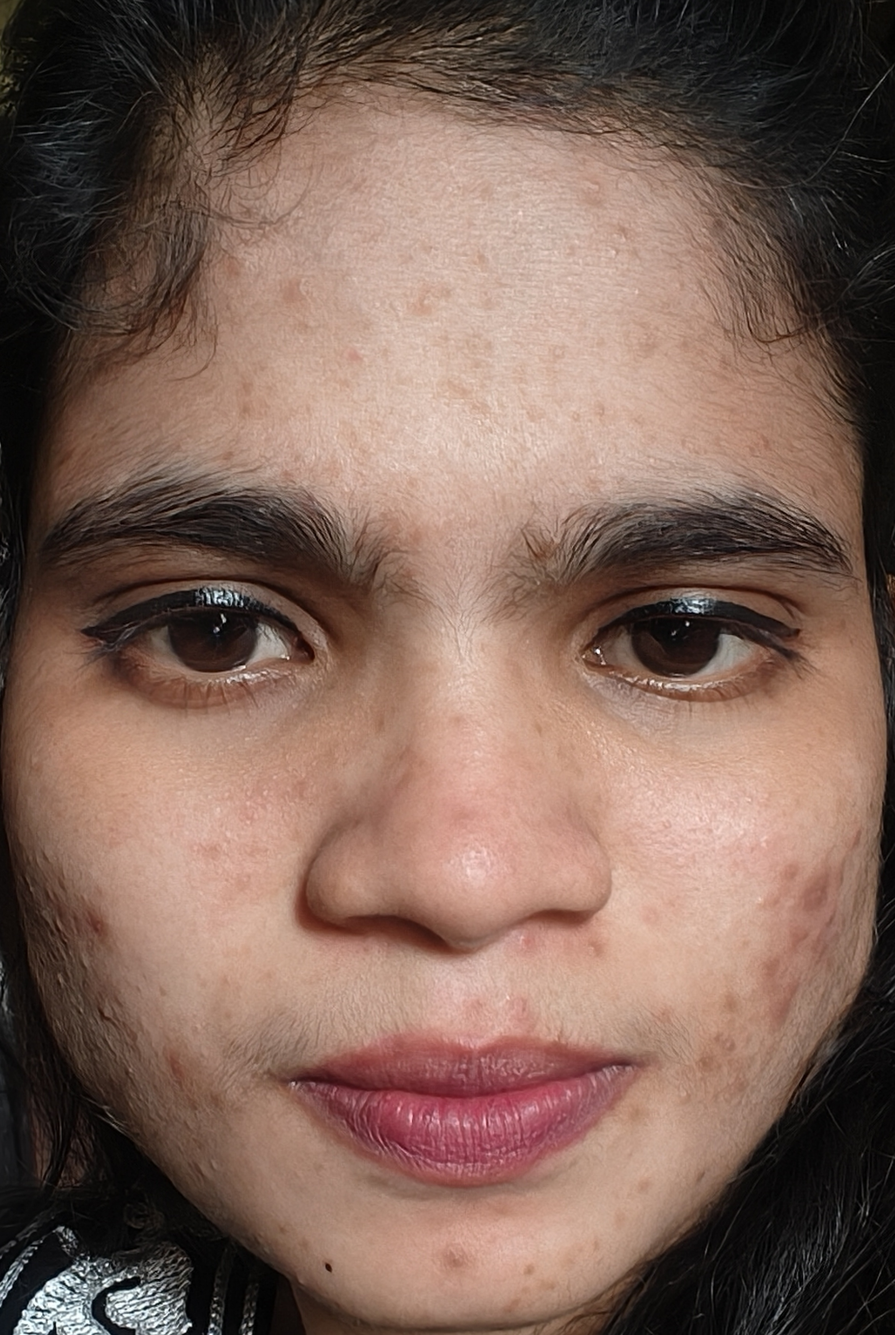closed_comedone: (522, 324, 593, 390), (73, 980, 122, 1029), (417, 271, 445, 344)
papule: (56, 888, 150, 956), (762, 850, 846, 916), (764, 976, 833, 1029), (421, 1234, 494, 1282), (661, 1071, 709, 1135), (703, 974, 745, 1042), (502, 923, 555, 976), (276, 256, 315, 326), (558, 932, 619, 972), (157, 1029, 197, 1082)
